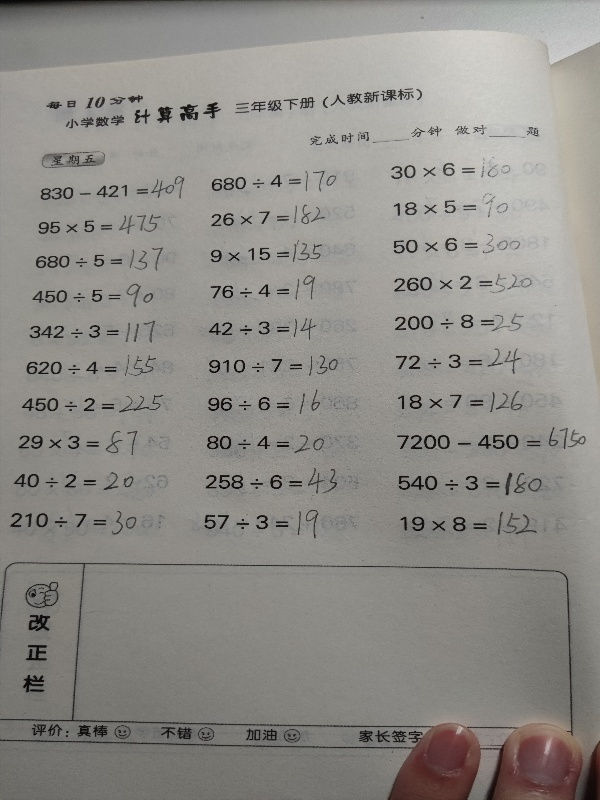equation: (394, 423, 590, 453), (19, 577, 61, 696), (395, 469, 547, 499), (202, 466, 344, 498), (36, 172, 187, 202), (396, 510, 540, 541), (201, 506, 323, 542), (393, 345, 525, 378), (7, 507, 141, 539), (15, 427, 141, 459), (204, 389, 331, 420), (31, 247, 170, 275), (205, 352, 342, 380), (26, 353, 163, 381), (31, 283, 163, 312), (390, 229, 521, 258), (28, 317, 163, 345), (18, 392, 166, 417), (394, 388, 526, 416), (202, 431, 328, 460), (387, 153, 516, 181), (206, 236, 325, 266), (390, 192, 516, 220), (208, 274, 319, 305), (206, 314, 320, 344), (35, 212, 165, 238), (392, 311, 527, 336), (390, 271, 535, 294), (11, 468, 138, 494), (209, 169, 343, 193), (209, 202, 332, 227)
